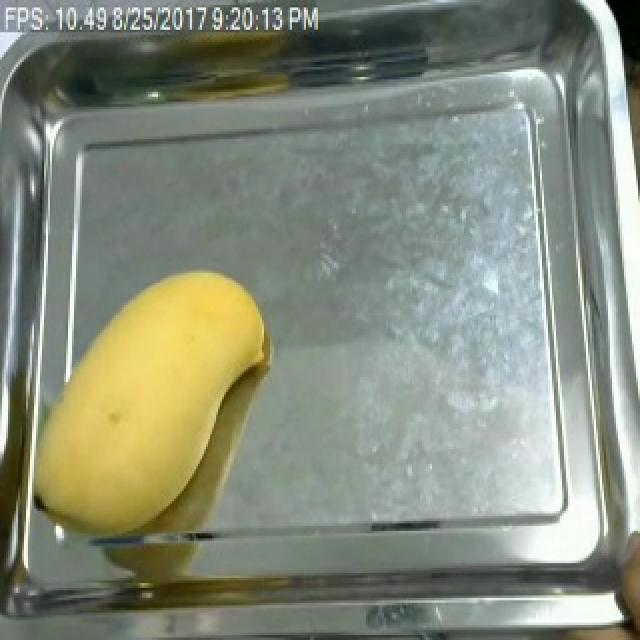fruit: (22, 253, 280, 553), (608, 503, 640, 640)
